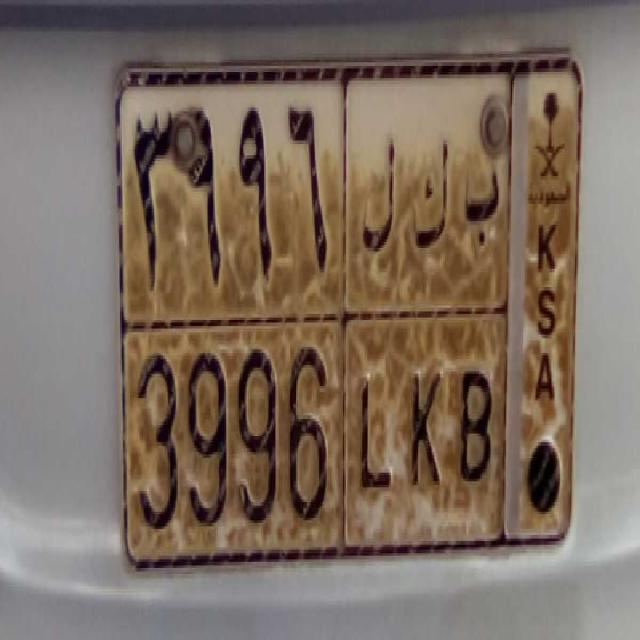license_plate: (122, 315, 508, 560)
